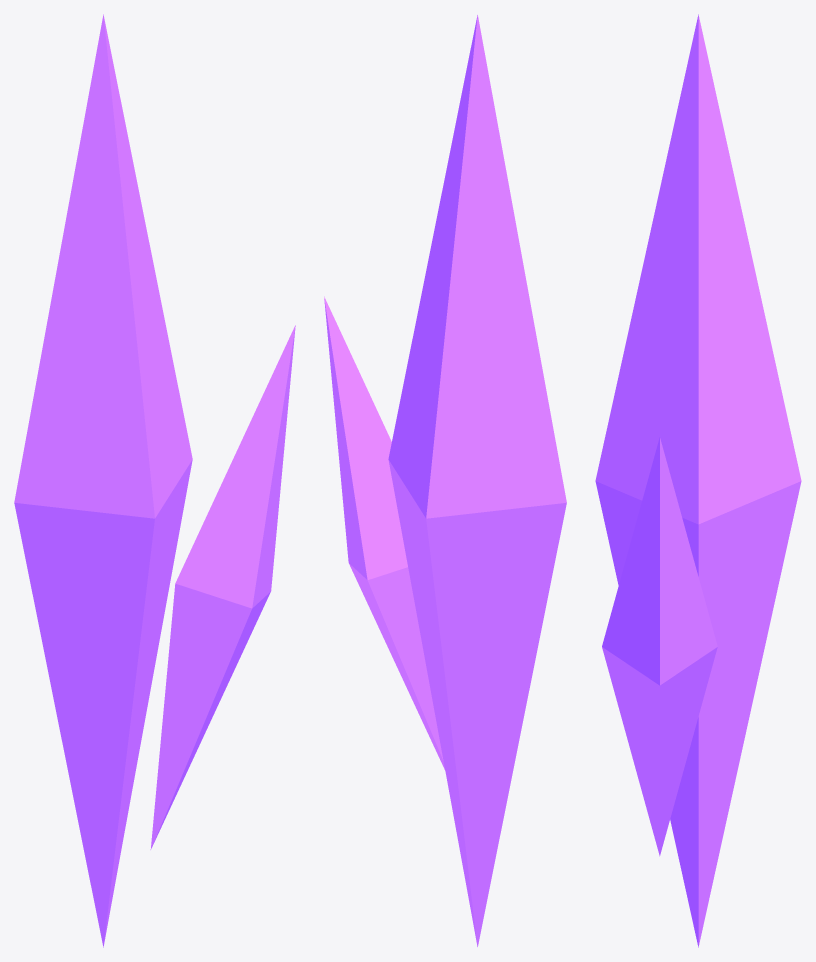
The model's file is crystal-spire.glb.
The picture shows the model from 3 angles, left to right: view 1: azimuth 30°, elevation 25°; view 2: azimuth 150°, elevation 25°; view 3: azimuth 270°, elevation 25°; orthographic projection.
Visible parts, largest first — view 1: cosmic crystal-spire; view 2: cosmic crystal-spire; view 3: cosmic crystal-spire.
Part boxes in pixels (x1,y1,x2,y2): cosmic crystal-spire: [14, 14, 295, 947]; cosmic crystal-spire: [324, 15, 566, 946]; cosmic crystal-spire: [595, 14, 801, 947].
Bounding box in the file's own units: 2.35 × 8 × 1.6.
